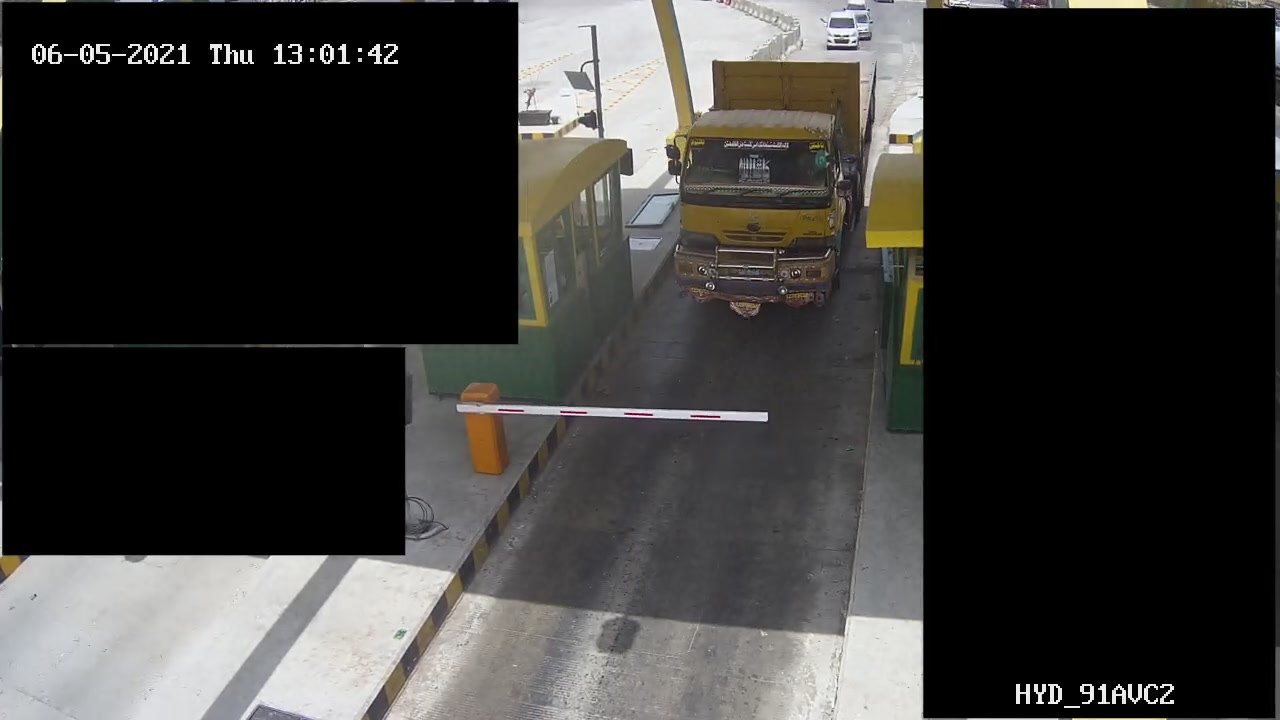F5: (666, 47, 881, 322)
